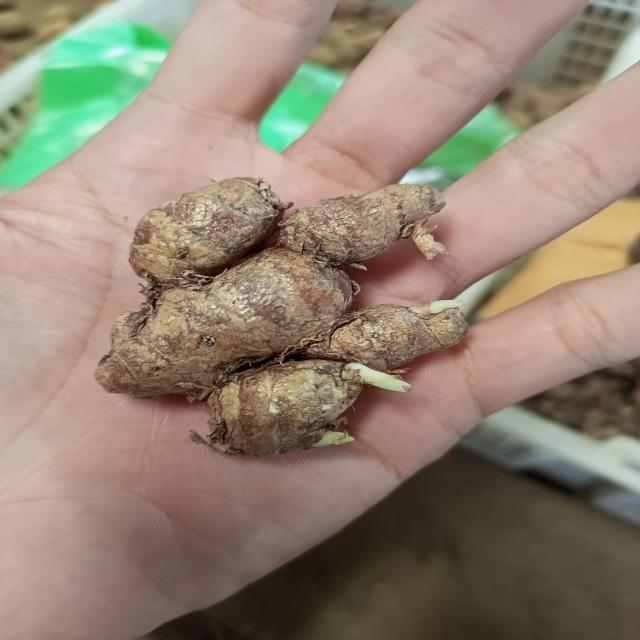ginger: (116, 185, 446, 428)
